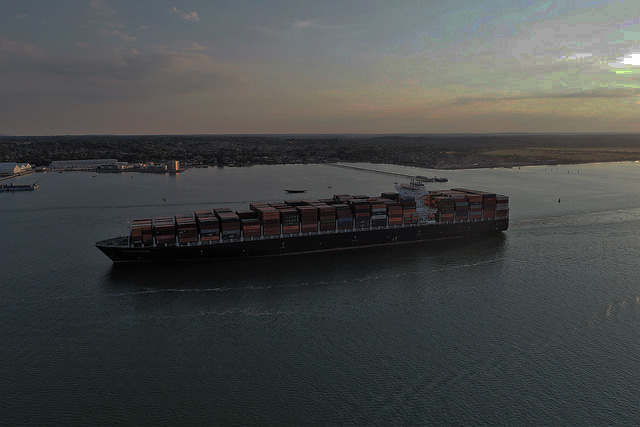container_ship: (93, 178, 505, 265)
